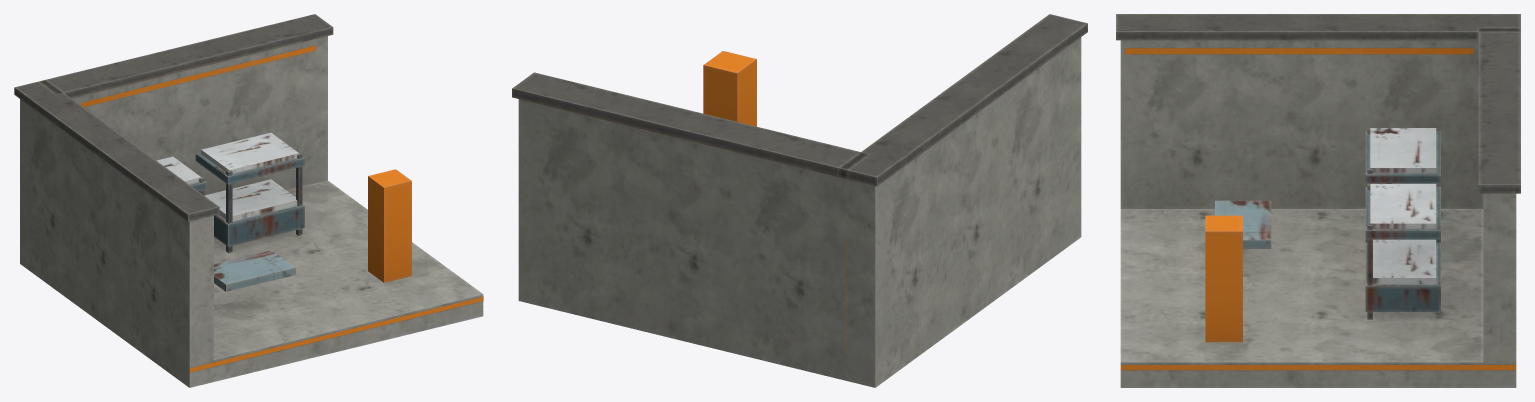
Rendered from habitat_t4.glb.
The picture shows the model from 3 angles, left to right: view 1: azimuth 30°, elevation 25°; view 2: azimuth 150°, elevation 25°; view 3: azimuth 270°, elevation 25°; orthographic projection. The views are drawn at different scales.
Visible parts, largest first — view 1: te_habitat_t4; view 2: te_habitat_t4; view 3: te_habitat_t4.
Boxes of the visible parts, x1,y1,x2,y2 form: te_habitat_t4: (14, 14, 483, 387); te_habitat_t4: (512, 14, 1087, 387); te_habitat_t4: (1116, 14, 1520, 387).
Size of the model in its own units: 0.86 by 0.48 by 0.86.
1 material, 1 textured.
